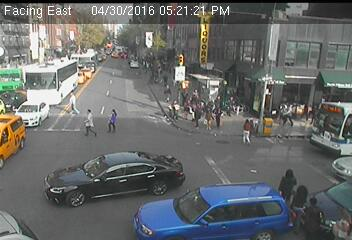neg: (36, 139, 64, 177), (200, 180, 228, 217), (123, 86, 145, 115), (90, 156, 112, 184), (157, 190, 177, 215), (21, 197, 38, 220), (104, 58, 119, 78), (260, 126, 275, 146), (235, 161, 250, 181), (246, 57, 261, 76), (314, 160, 328, 180), (174, 42, 188, 61), (299, 47, 313, 66), (229, 16, 242, 33), (211, 137, 224, 154), (128, 44, 140, 61), (71, 45, 83, 61), (47, 57, 59, 73), (155, 14, 167, 30), (16, 95, 28, 111), (215, 18, 227, 33), (184, 144, 196, 159), (89, 12, 100, 27), (207, 52, 218, 66), (187, 18, 197, 32), (139, 210, 149, 223), (250, 94, 260, 106), (294, 135, 304, 147), (37, 22, 46, 34), (250, 19, 259, 31), (325, 139, 334, 151), (76, 193, 85, 205), (184, 67, 193, 78), (94, 34, 101, 44), (152, 48, 159, 58), (215, 78, 220, 85)
pos: (282, 183, 315, 226), (272, 166, 301, 204), (300, 197, 325, 230), (329, 204, 351, 237), (234, 115, 256, 146), (76, 105, 99, 134), (62, 87, 82, 115), (279, 100, 299, 127), (103, 106, 123, 133), (188, 100, 207, 127), (164, 96, 182, 120), (208, 106, 225, 129), (221, 92, 238, 115), (160, 81, 176, 102), (188, 85, 204, 106), (201, 105, 217, 125), (275, 100, 290, 120), (297, 100, 312, 120), (211, 94, 225, 112), (179, 87, 191, 103)
